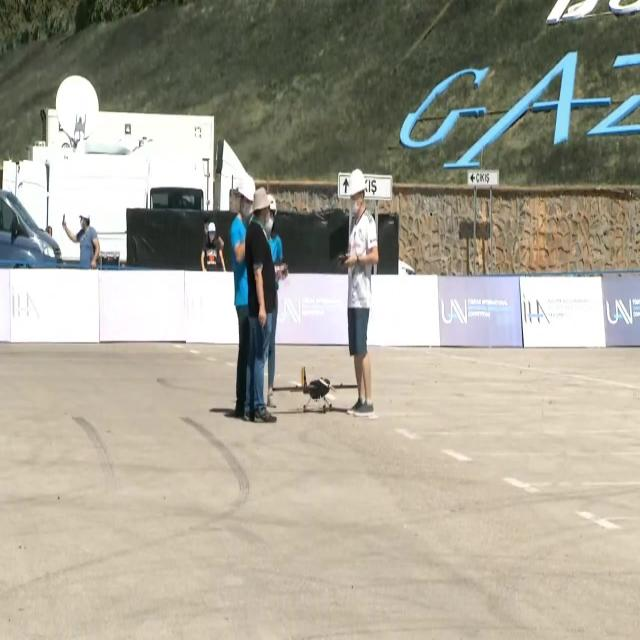iha: (298, 364, 328, 413)
